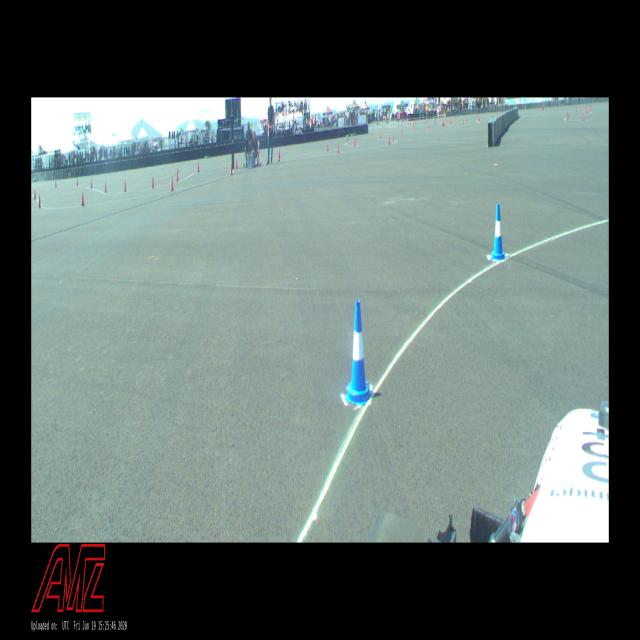blue_cone: (344, 301, 373, 406), (490, 204, 507, 262)
unknown_cone: (81, 192, 85, 206), (170, 177, 174, 191), (38, 195, 42, 208), (104, 181, 107, 193), (124, 180, 127, 192), (176, 170, 179, 182), (230, 163, 233, 175), (197, 162, 200, 173), (354, 138, 357, 147), (152, 175, 154, 188), (236, 158, 238, 169), (278, 151, 280, 162), (337, 143, 339, 154), (379, 132, 382, 139), (327, 142, 329, 152), (582, 112, 584, 121), (567, 111, 569, 120), (90, 179, 92, 188), (55, 179, 57, 188), (278, 149, 280, 158), (388, 136, 390, 145), (392, 132, 394, 141), (576, 105, 578, 112), (401, 128, 403, 135), (35, 189, 36, 200), (354, 137, 355, 146), (587, 106, 588, 114), (77, 177, 78, 185), (372, 131, 373, 138), (590, 106, 591, 112), (347, 136, 348, 142)
